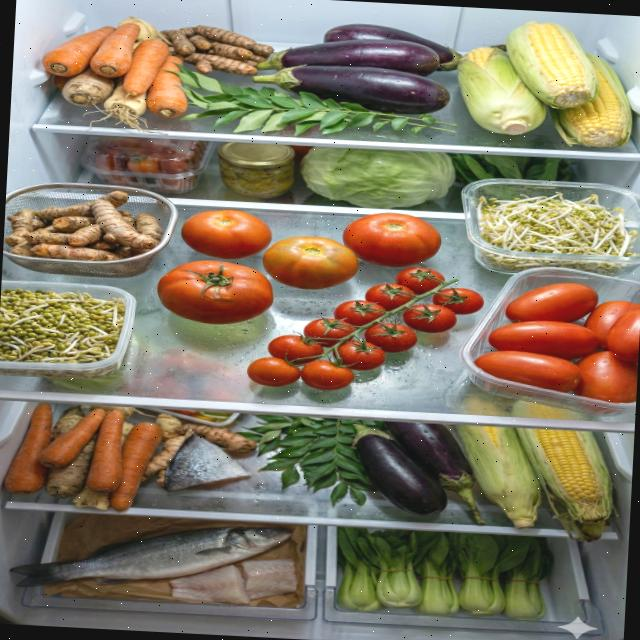cabbage: (299, 146, 457, 213)
carrot: (3, 401, 165, 515), (39, 19, 192, 120)
corn: (452, 17, 638, 150), (438, 424, 617, 534)
curry_leaves: (156, 62, 460, 144), (232, 413, 383, 510)
eggplant: (251, 18, 465, 117), (348, 420, 492, 524)
fish: (8, 514, 301, 608), (164, 432, 254, 498)
pakchoy: (334, 526, 552, 624)
tomato: (246, 258, 486, 400), (471, 278, 640, 404), (261, 206, 443, 296), (155, 258, 276, 328), (179, 207, 274, 262)
turmeric: (2, 185, 167, 282), (159, 23, 275, 77)
